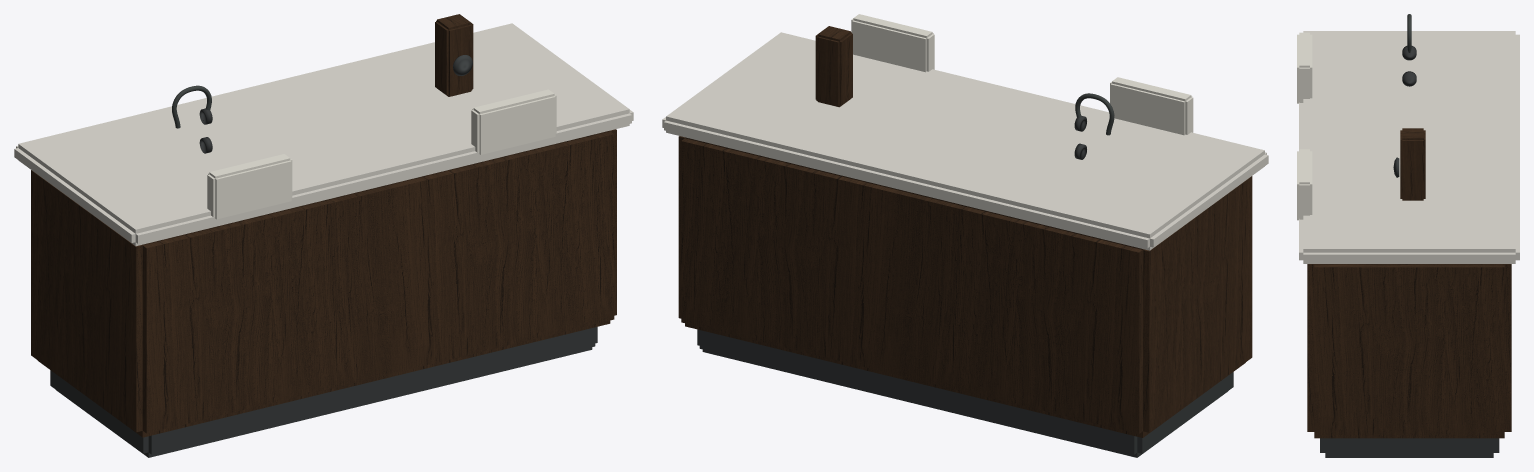
Rendered from compact_audio_v294.glb.
The picture shows the model from 3 angles, left to right: view 1: azimuth 30°, elevation 25°; view 2: azimuth 150°, elevation 25°; view 3: azimuth 270°, elevation 25°; orthographic projection. The views are drawn at different scales.
Parts seen in each view (by area): view 1: compact_audio_v294_CC0_Smoked_walnut, compact_audio_v294_Honed_solid_surface, compact_audio_v294_Anodised_graphite, compact_audio_v294_Paper_page_edges, compact_audio_v294_CC0_Smoked_walnut.001; view 2: compact_audio_v294_CC0_Smoked_walnut, compact_audio_v294_Honed_solid_surface, compact_audio_v294_Anodised_graphite, compact_audio_v294_Paper_page_edges, compact_audio_v294_CC0_Smoked_walnut.001; view 3: compact_audio_v294_Honed_solid_surface, compact_audio_v294_CC0_Smoked_walnut, compact_audio_v294_Anodised_graphite, compact_audio_v294_Paper_page_edges, compact_audio_v294_CC0_Smoked_walnut.001, compact_audio_v294_V23_shoe_rubber.
Boxes of the visible parts, x1,y1,x2,y2 form: compact_audio_v294_CC0_Smoked_walnut: (31, 129, 616, 437); compact_audio_v294_Honed_solid_surface: (14, 23, 633, 246); compact_audio_v294_Anodised_graphite: (50, 327, 597, 457); compact_audio_v294_Paper_page_edges: (207, 89, 556, 219); compact_audio_v294_CC0_Smoked_walnut.001: (435, 14, 473, 96); compact_audio_v294_CC0_Smoked_walnut: (678, 136, 1252, 437); compact_audio_v294_Honed_solid_surface: (662, 32, 1268, 250); compact_audio_v294_Anodised_graphite: (697, 329, 1233, 457); compact_audio_v294_Paper_page_edges: (851, 14, 1193, 135); compact_audio_v294_CC0_Smoked_walnut.001: (815, 26, 852, 107); compact_audio_v294_Honed_solid_surface: (1299, 31, 1519, 263); compact_audio_v294_CC0_Smoked_walnut: (1307, 264, 1511, 438); compact_audio_v294_Anodised_graphite: (1320, 438, 1499, 457); compact_audio_v294_Paper_page_edges: (1297, 32, 1312, 220); compact_audio_v294_CC0_Smoked_walnut.001: (1400, 128, 1425, 200); compact_audio_v294_V23_shoe_rubber: (1402, 46, 1416, 86).
Bounding box in the file's own units: 1.9 × 1.14 × 0.8075.
8 materials, 2 textured.
